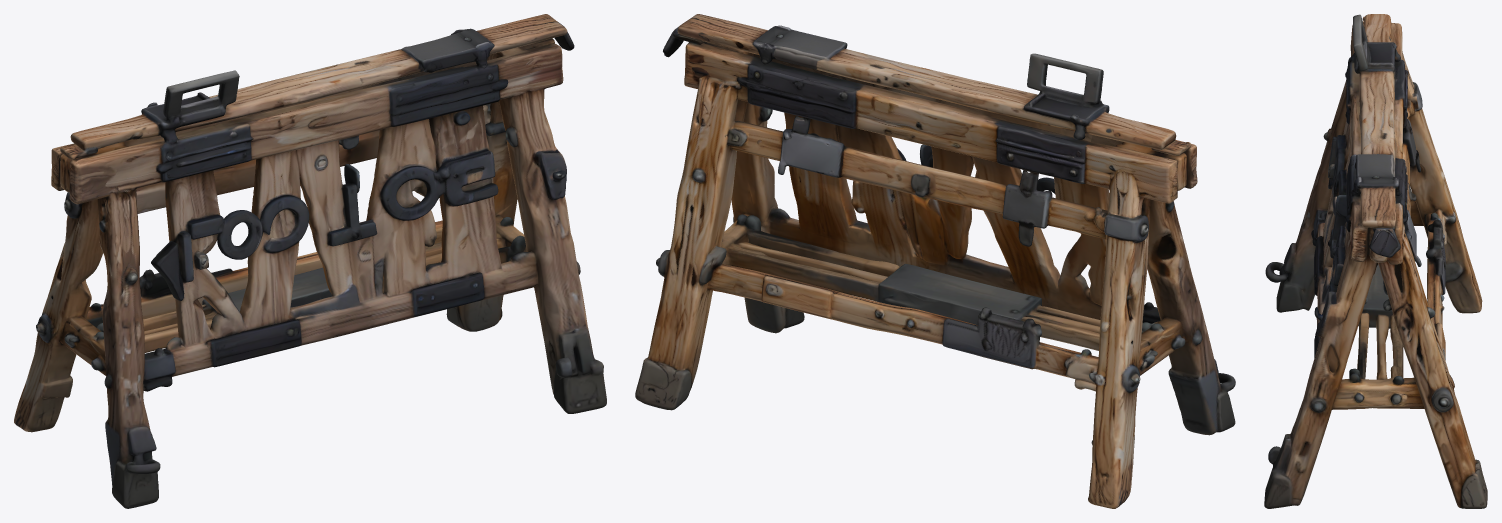
The model's file is prop-barricade.glb.
3 renders of one model, left to right at view 1: azimuth 30°, elevation 25°; view 2: azimuth 150°, elevation 25°; view 3: azimuth 270°, elevation 25°, orthographic. The views are drawn at different scales.
Parts seen in each view (by area): view 1: tripo_node_98c88f43-02cd-4598-b134-dc37bc087e3b; view 2: tripo_node_98c88f43-02cd-4598-b134-dc37bc087e3b; view 3: tripo_node_98c88f43-02cd-4598-b134-dc37bc087e3b.
Boxes of the visible parts, left/top/right/bottom form: tripo_node_98c88f43-02cd-4598-b134-dc37bc087e3b: left=14, top=14, right=606, bottom=508; tripo_node_98c88f43-02cd-4598-b134-dc37bc087e3b: left=635, top=14, right=1235, bottom=508; tripo_node_98c88f43-02cd-4598-b134-dc37bc087e3b: left=1264, top=14, right=1487, bottom=508.
Size of the model in its own units: 1.71 by 1.2 by 0.7348.
1 material, 1 textured.
